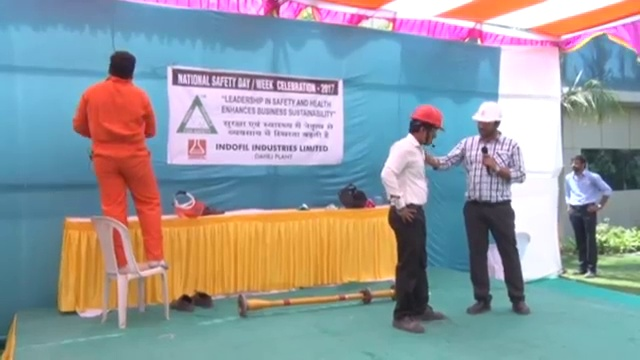helmet: (411, 101, 447, 133), (470, 100, 503, 123)
helmet_off: (108, 49, 138, 83), (568, 152, 589, 176)
helmet_on: (408, 103, 445, 152), (469, 100, 504, 143)
person: (425, 99, 534, 318), (69, 49, 173, 273), (376, 102, 449, 334), (562, 152, 614, 278)
